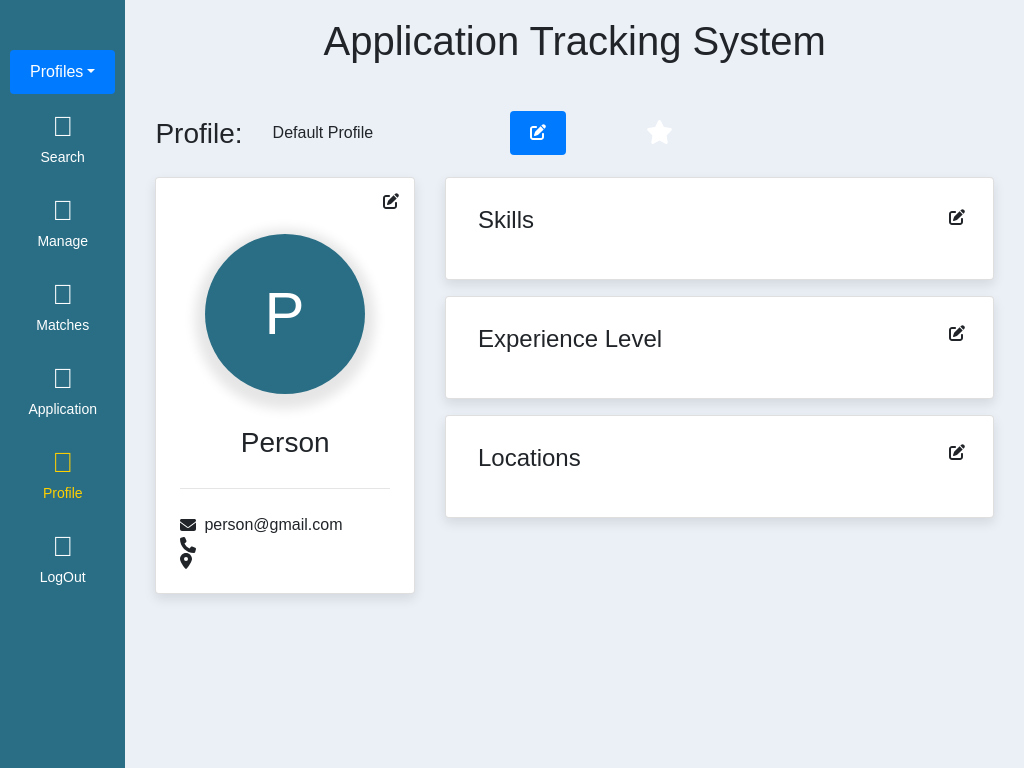
Test Multiple Profiles › When text is entered, the new profile butten is enabled
Click the button "Profiles". click: (63, 72)
box: [10, 50, 115, 94]
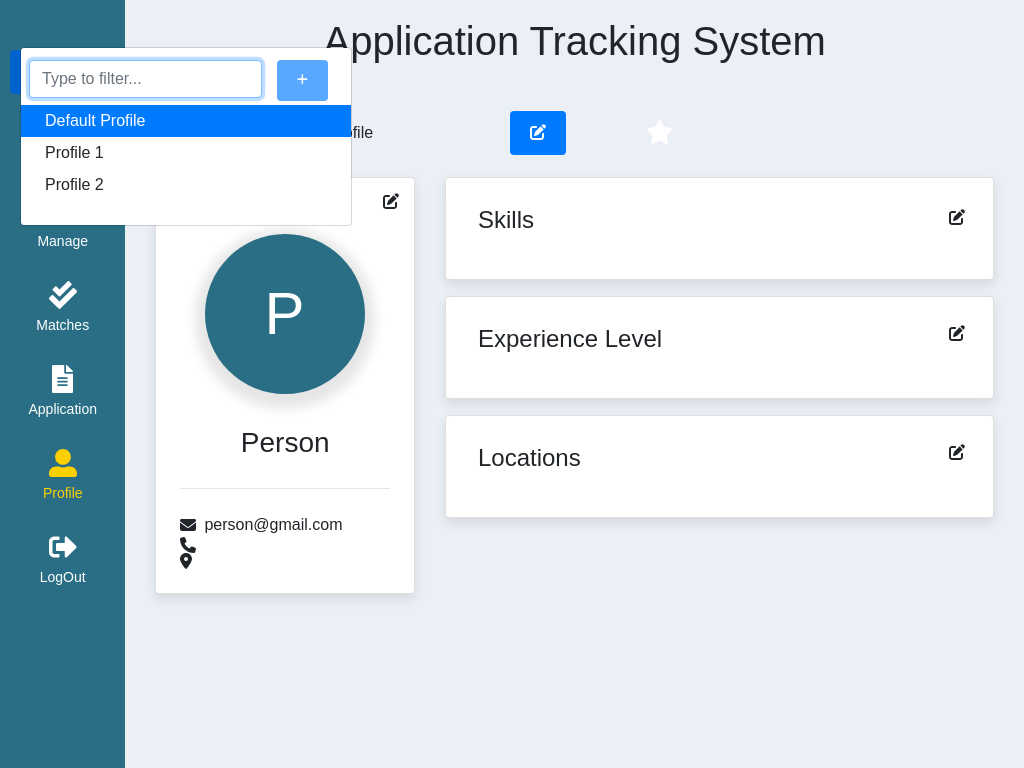
Check: the button with test id "Add Profile Button" is shown, box [277, 60, 328, 101]
Check: the field named "newProfileName" is shown
Type "Testing Profile" into the field named "newProfileName". click: (146, 79)
box: [29, 60, 262, 98]
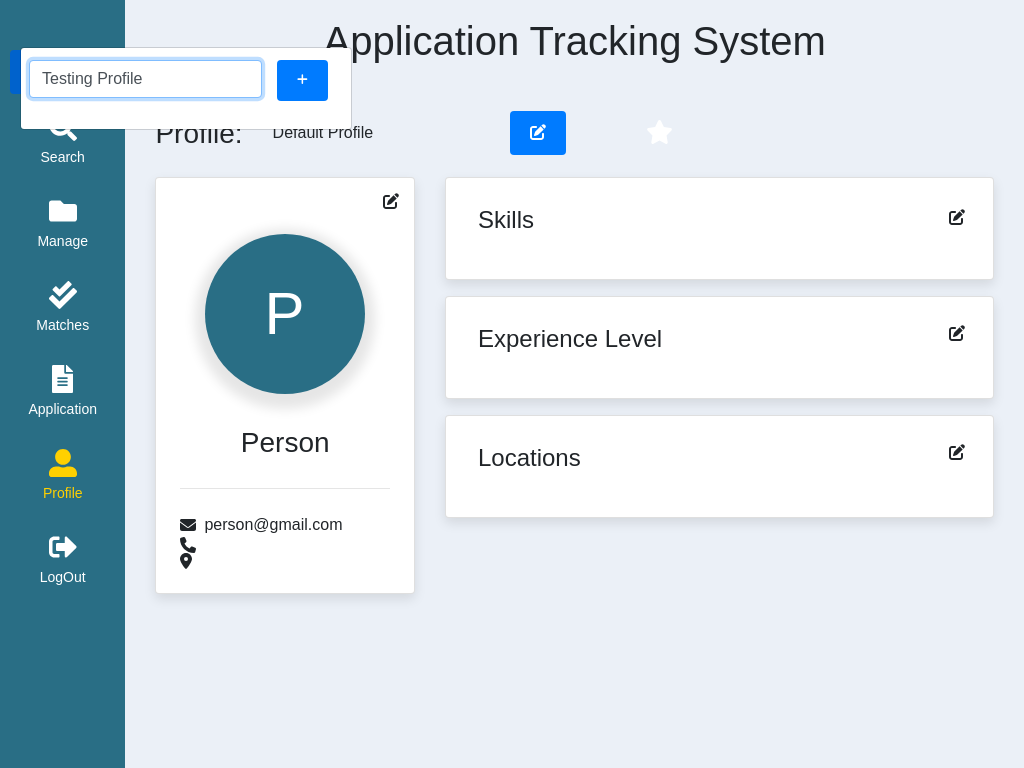
Check: the button with test id "Add Profile Button" is enabled, box [277, 60, 328, 101]
